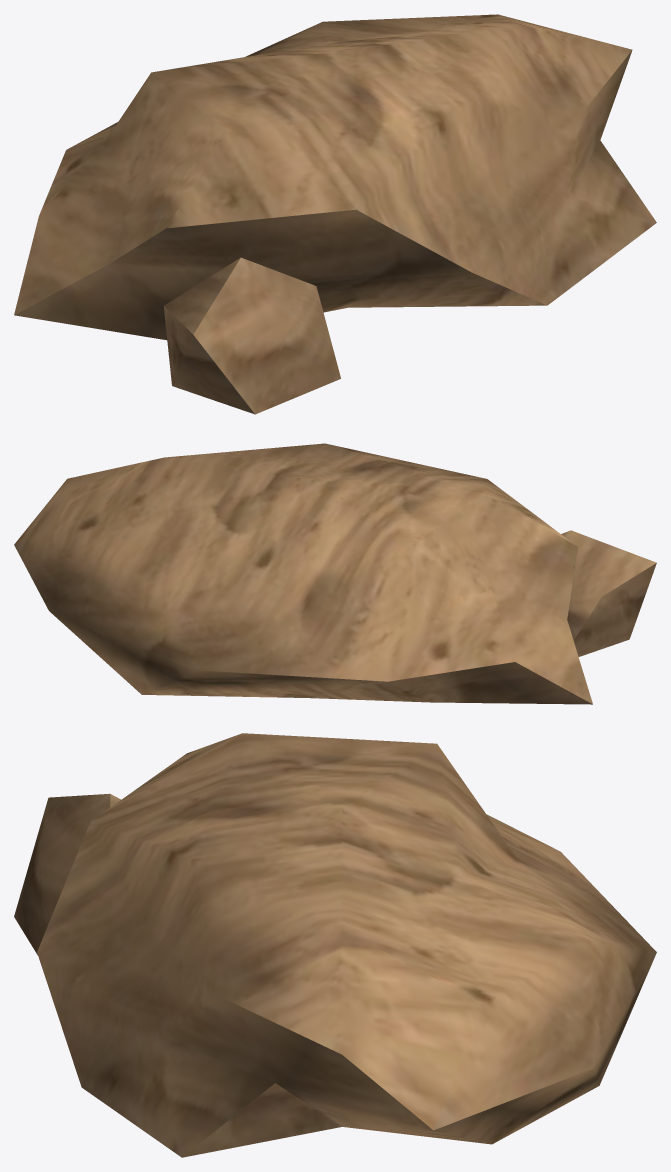
Rendered from rock_sand_2.glb.
The picture shows the model from 3 angles, top to bottom: view 1: azimuth 30°, elevation 25°; view 2: azimuth 150°, elevation 25°; view 3: azimuth 270°, elevation 25°; orthographic projection. The views are drawn at different scales.
Visible parts, largest first — view 1: te_prop_rock_sand_2; view 2: te_prop_rock_sand_2; view 3: te_prop_rock_sand_2.
Part boxes in pixels (x1,y1,x2,y2): te_prop_rock_sand_2: [14, 14, 656, 414]; te_prop_rock_sand_2: [14, 443, 656, 704]; te_prop_rock_sand_2: [14, 733, 656, 1157].
Bounding box in the file's own units: 0.2581 × 0.0781 × 0.194.
1 material, 1 textured.
